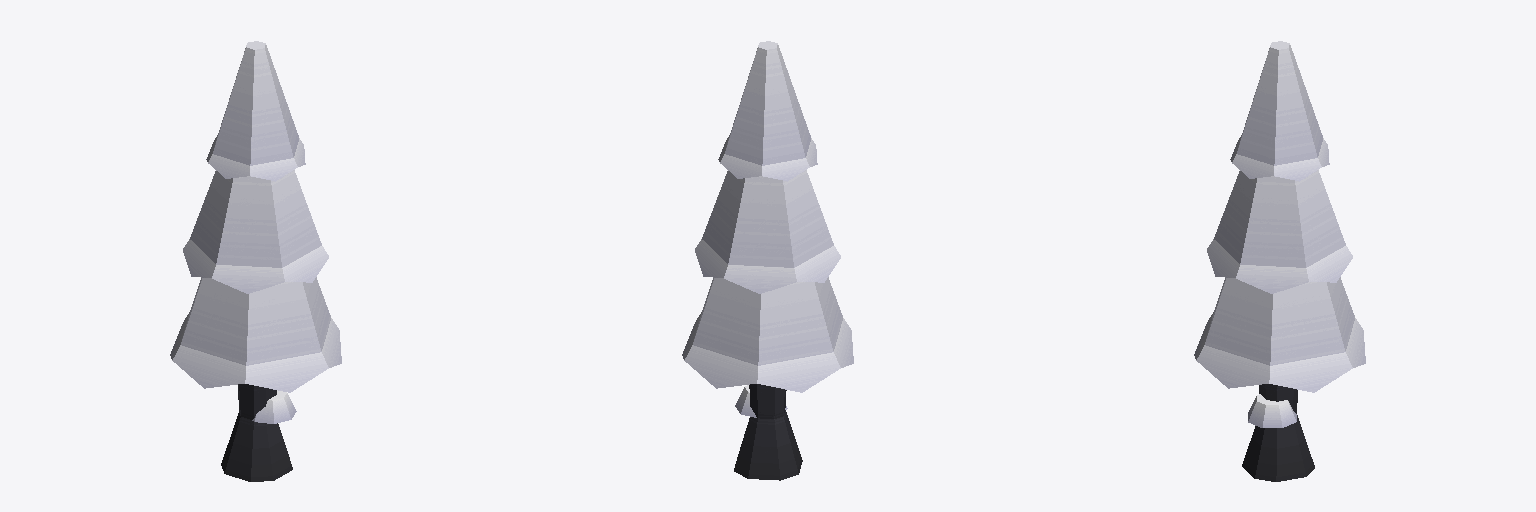
3 views of the same model, side by side, from view 1: azimuth 30°, elevation 25°; view 2: azimuth 150°, elevation 25°; view 3: azimuth 270°, elevation 25° (orthographic).
Visible parts, largest first — view 1: tree.049; view 2: tree.049; view 3: tree.049.
Part boxes in pixels (bbox=[...]): tree.049: bbox=[170, 41, 341, 481]; tree.049: bbox=[682, 41, 853, 480]; tree.049: bbox=[1194, 41, 1365, 481].
Bounding box in the file's own units: 1.35 × 3.47 × 1.29.
1 materials, 1 textured.